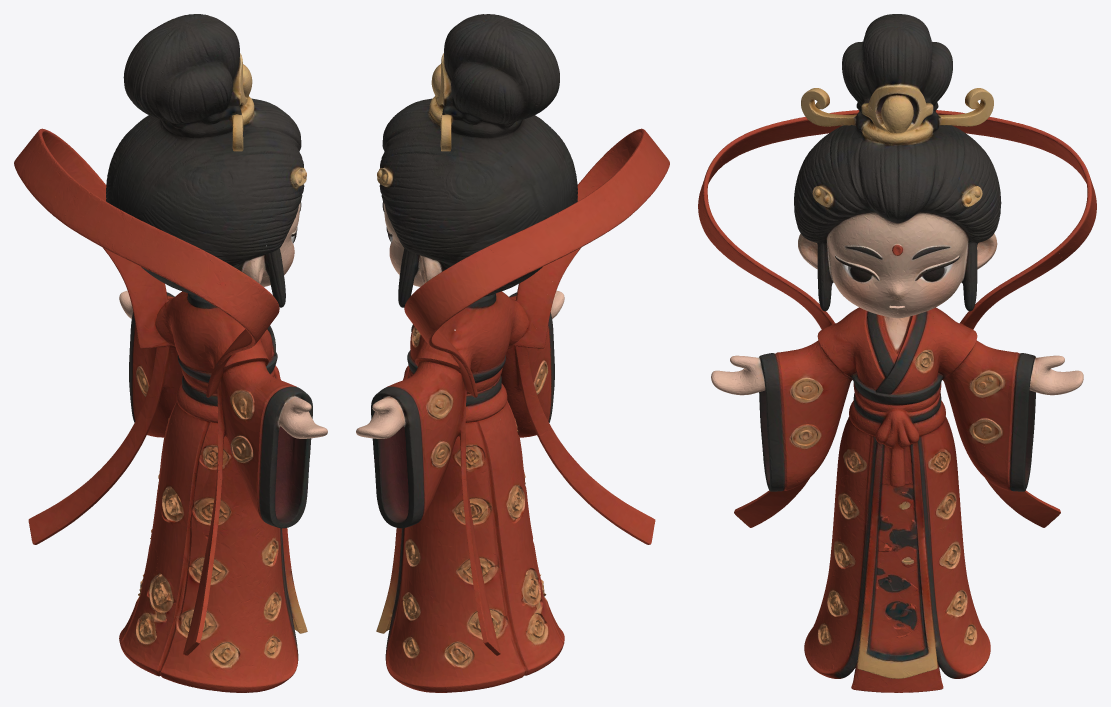
3 views of the same model, side by side, from view 1: azimuth 30°, elevation 25°; view 2: azimuth 150°, elevation 25°; view 3: azimuth 270°, elevation 25° (orthographic). The views are drawn at different scales.
Parts seen in each view (by area): view 1: tripo_node_b49d3f7e-c858-44ca-9362-12869da29b76; view 2: tripo_node_b49d3f7e-c858-44ca-9362-12869da29b76; view 3: tripo_node_b49d3f7e-c858-44ca-9362-12869da29b76.
Part boxes in pixels (box(x1,y1,x2,y2)): tripo_node_b49d3f7e-c858-44ca-9362-12869da29b76: box(14, 14, 327, 692); tripo_node_b49d3f7e-c858-44ca-9362-12869da29b76: box(356, 14, 669, 692); tripo_node_b49d3f7e-c858-44ca-9362-12869da29b76: box(698, 14, 1096, 692).
Bounding box in the file's own units: 0.373 × 1 × 0.5677.
1 material, 1 textured.
